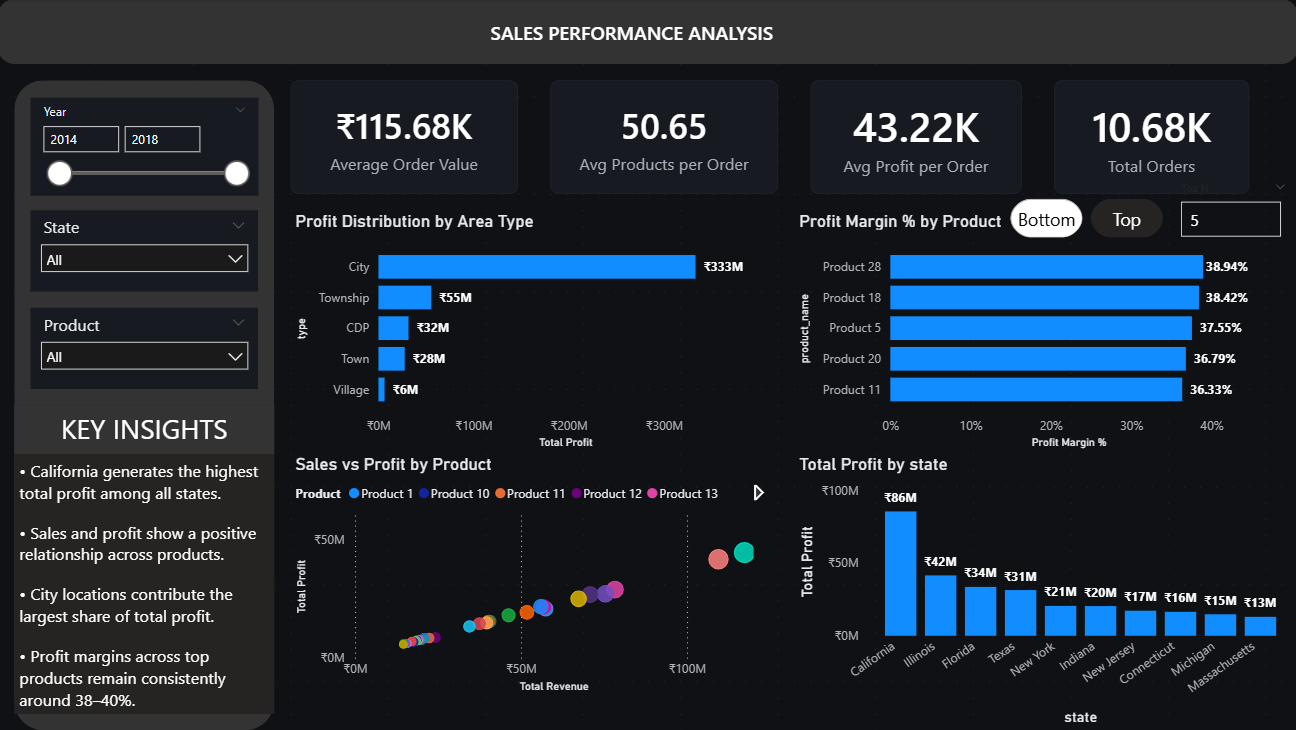

Layout of this report page (visuals, bound fields, positions):
{"tool":"powerbi","page":{"name":"Business Insights","canvas":[1280,720],"ordinal":1},"visuals":[{"type":"barChart","title":"Profit Distribution by Area Type","fields":{"Y":["merged_sales_data.Total Profit"],"Category":["merged_sales_data.type"]},"box":[288,208,480,240],"z":0},{"type":"scatterChart","title":"Sales vs Profit by Product","fields":{"X":["merged_sales_data.Total Revenue"],"Y":["merged_sales_data.Total Profit"],"Size":["merged_sales_data.Total Revenue"],"Series":["merged_sales_data.product_name"]},"box":[288,448,480,240],"z":1000},{"type":"columnChart","fields":{"Category":["merged_sales_data.state"],"Y":["merged_sales_data.Total Profit"]},"box":[784,448,496,272],"z":2000},{"type":"card","fields":{"Values":["merged_sales_data.Avg Profit per Order"]},"box":[800,80,208,112],"z":3000},{"type":"card","fields":{"Values":["merged_sales_data.Avg_Products_per_Order"]},"box":[544,80,224,112],"z":4000},{"type":"card","fields":{"Values":["merged_sales_data.Average Order Value"]},"box":[288,80,224,112],"z":5000},{"type":"card","title":"Profit Margin %","fields":{"Values":["merged_sales_data.Total_Orders"]},"box":[1040,80,192,112],"z":6000},{"type":"shape","box":[0,0,1280,64],"z":7000},{"type":"textbox","box":[480,16,304,48],"z":8000},{"type":"shape","box":[16,80,256,640],"z":9000},{"type":"slicer","fields":{"Values":["DateTable.Year"]},"box":[32,96.8,224,96],"z":10000},{"type":"slicer","fields":{"Values":["merged_sales_data.state"]},"box":[32,208,224,80],"z":11000},{"type":"slicer","fields":{"Values":["merged_sales_data.product_name"]},"box":[32,304,224,80],"z":12000},{"type":"shape","box":[16,400,256,304],"z":13000},{"type":"textbox","box":[16,400,256,48],"z":14000},{"type":"textbox","box":[16,448,256,272],"z":15000},{"type":"barChart","title":"Profit Margin % by Product","fields":{"Y":["merged_sales_data.Profit Margin %"],"Category":["merged_sales_data.product_name"]},"box":[784,208,464,240],"z":16000},{"type":"advancedSlicerVisual","fields":{"Values":["TopBottom.Value"]},"box":[992,192,160,48],"z":17000},{"type":"slicer","fields":{"Values":["Top N.Top N"]},"box":[1152,175,128,112],"z":18000}]}

Visuals, with their boxes in screenshot pixels (x1, y1, x2, y2), scaled from the page's 1280x720 canvas onto the 1296x730 screenshot:
"Profit Distribution by Area Type" barChart: (292,211,778,454)
"Sales vs Profit by Product" scatterChart: (292,454,778,698)
columnChart - merged_sales_data.state x merged_sales_data.Total Profit: (794,454,1295,729)
card - merged_sales_data.Avg Profit per Order: (810,81,1021,195)
card - merged_sales_data.Avg_Products_per_Order: (551,81,778,195)
card - merged_sales_data.Average Order Value: (292,81,518,195)
"Profit Margin %" card: (1053,81,1247,195)
shape: (0,0,1295,65)
textbox: (486,16,794,65)
shape: (16,81,275,729)
slicer - DateTable.Year: (32,98,259,195)
slicer - merged_sales_data.state: (32,211,259,292)
slicer - merged_sales_data.product_name: (32,308,259,389)
shape: (16,406,275,714)
textbox: (16,406,275,454)
textbox: (16,454,275,729)
"Profit Margin % by Product" barChart: (794,211,1264,454)
advancedSlicerVisual - TopBottom.Value: (1004,195,1166,243)
slicer - Top N.Top N: (1166,177,1295,291)
